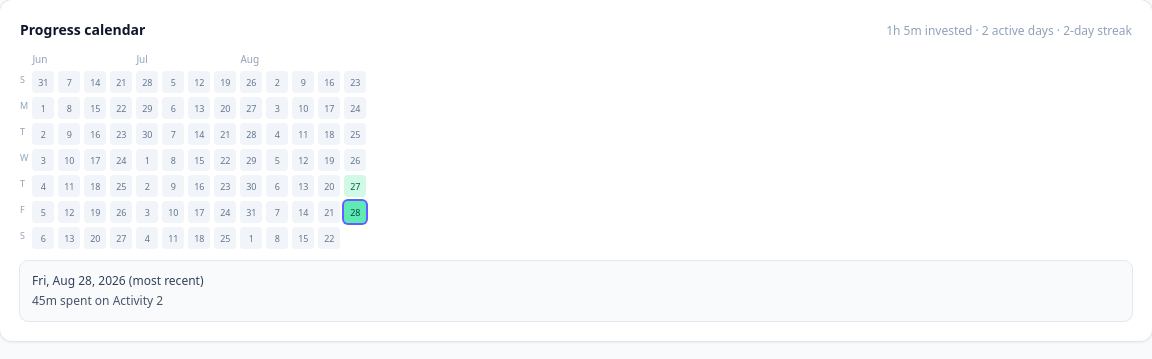
Test: ActivityCalendar › shows time spent on a different day when its cell is clicked, and reverts to the default when clicked again
This screenshot has width=1152, height=359.
Step 1. Click the button named "20m spent on Activity 1" → [355, 186], box x1=344 y1=175 x2=366 y2=197
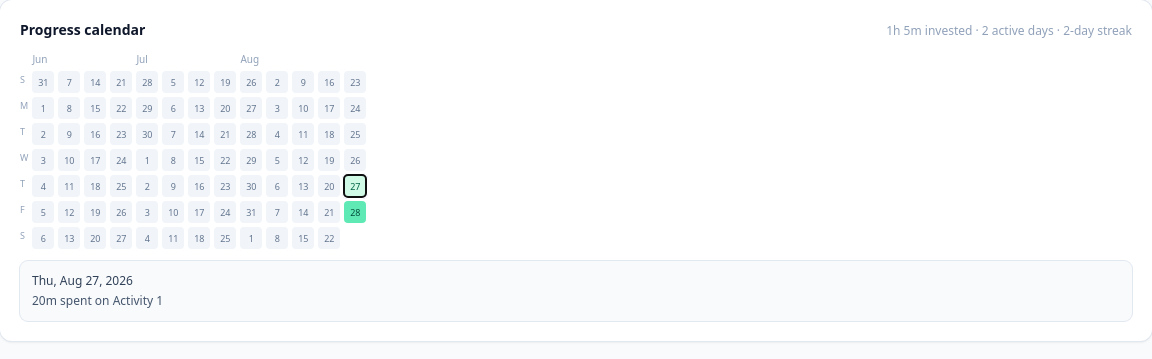
Expected: the text "most recent" is gone
Step 2. Click the button named "20m spent on Activity 1" → [355, 186], box x1=344 y1=175 x2=366 y2=197
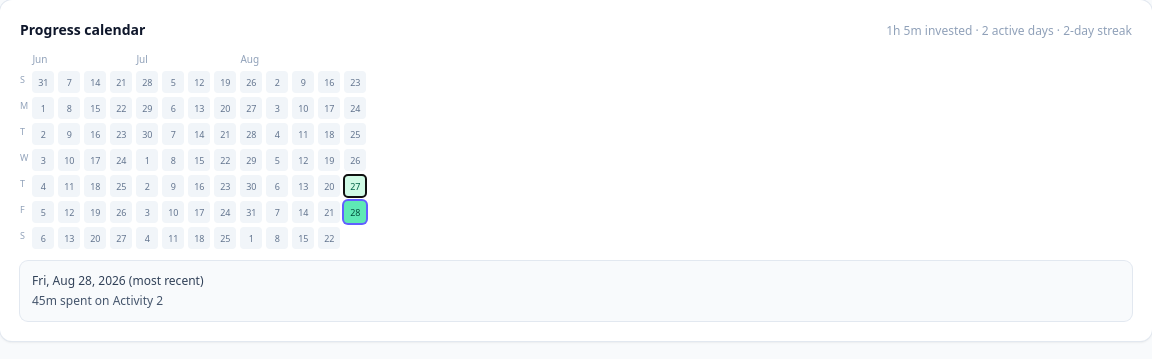
Expected: the text "Fri, Aug 28, 2026 (most recent)" is shown, x1=32 y1=272 x2=204 y2=289
